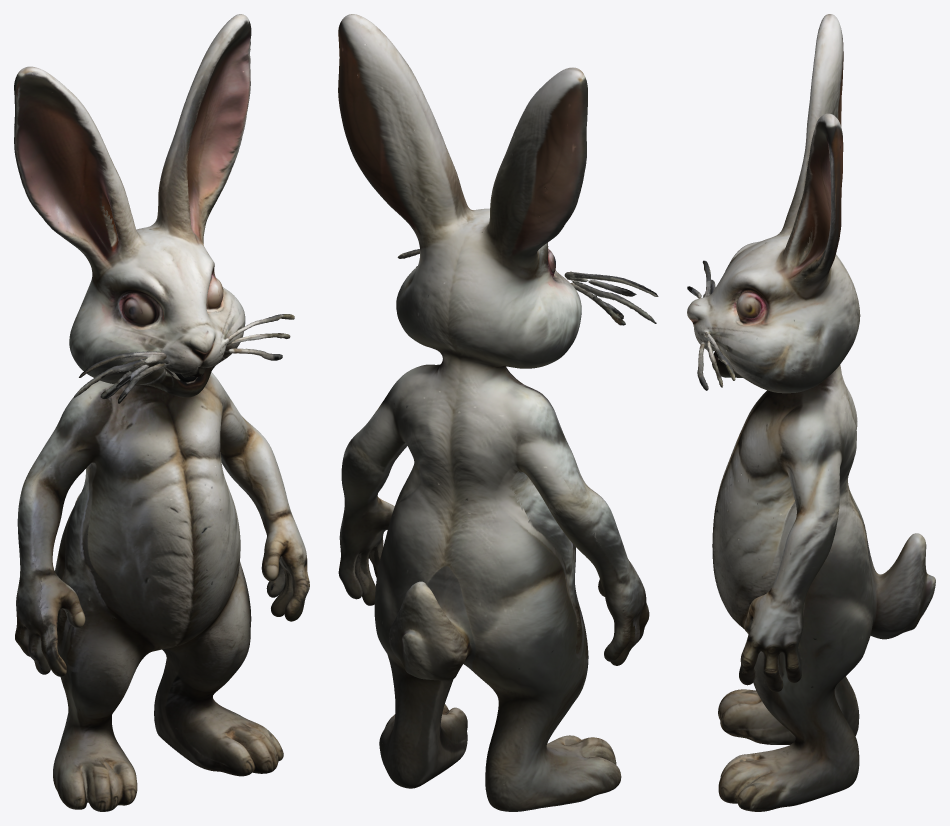
File: giantbunny.glb
3 views of the same model, side by side, from view 1: azimuth 30°, elevation 25°; view 2: azimuth 150°, elevation 25°; view 3: azimuth 270°, elevation 25° (orthographic). The views are drawn at different scales.
Visible parts, largest first — view 1: Mesh_0.001; view 2: Mesh_0.001; view 3: Mesh_0.001.
Boxes of the visible parts, <box> form: Mesh_0.001: <box>14,14,309,811</box>; Mesh_0.001: <box>338,14,658,811</box>; Mesh_0.001: <box>687,14,935,811</box>.
Bounding box in the file's own units: 0.8127 × 2 × 0.6455.
Materials: 1 (1 with a texture image).
